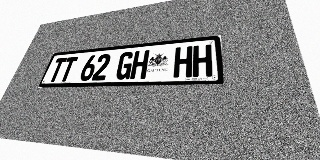2: (91, 53, 112, 81)
6: (79, 55, 99, 81)
G: (115, 51, 135, 80)
H: (192, 44, 212, 77), (173, 46, 193, 78), (130, 50, 150, 79)
T: (58, 56, 78, 82), (47, 57, 67, 82)
